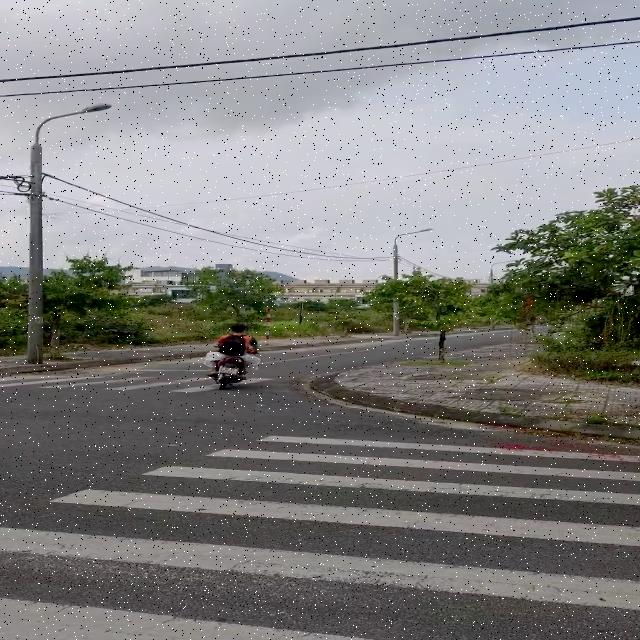no_helmet: (230, 320, 246, 338)
